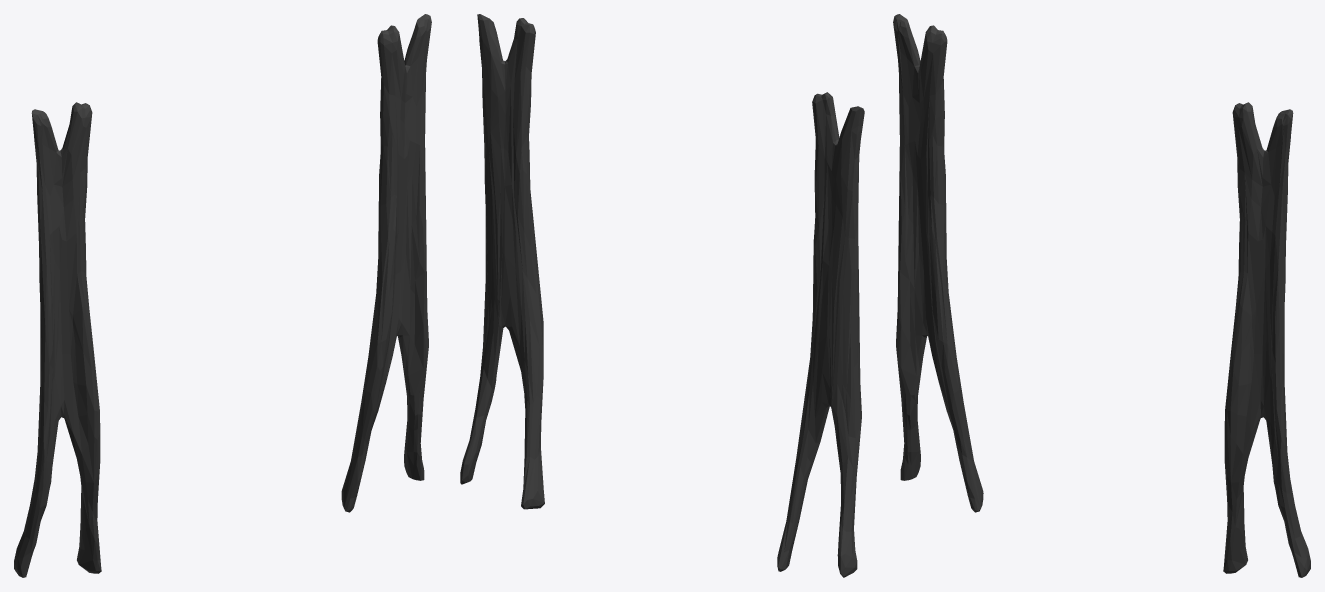
File: lig_suspensory_FL.glb
3 views of the same model, side by side, from view 1: azimuth 30°, elevation 25°; view 2: azimuth 150°, elevation 25°; view 3: azimuth 330°, elevation 25° (orthographic). The views are drawn at different scales.
Parts seen in each view (by area): view 1: lig_suspensory_FL; view 2: lig_suspensory_FL; view 3: lig_suspensory_FL.
Part boxes in pixels (<box>): lig_suspensory_FL: <box>14,14,431,577</box>; lig_suspensory_FL: <box>460,14,864,577</box>; lig_suspensory_FL: <box>893,14,1310,577</box>.
Bounding box in the file's own units: 0.00395 × 0.00455 × 0.0005.
Materials: 1 (1 with a texture image).
